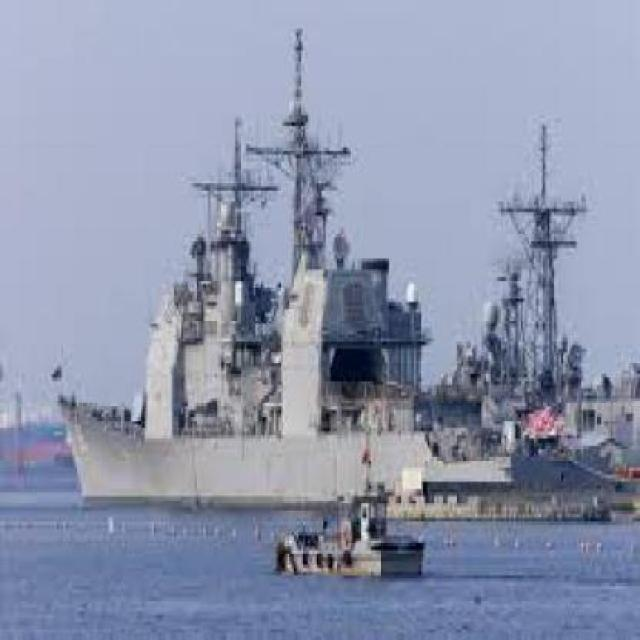warship2: (47, 23, 633, 520)
